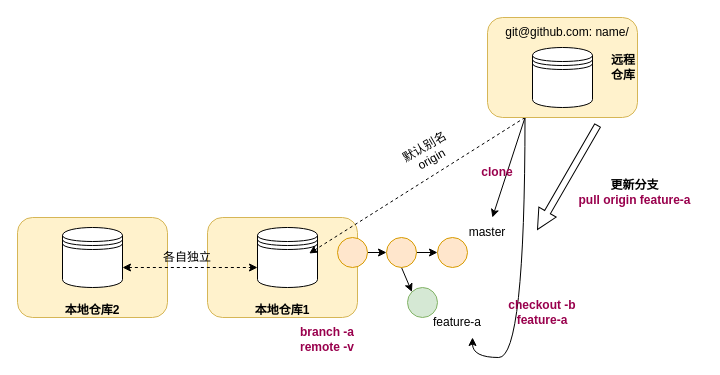
Image size: 720x375. Some labels were removed from this diagram. Each missing label, with the centre of its shape:
remote: (x=287, y=257)
关联 remote: (x=92, y=257)
